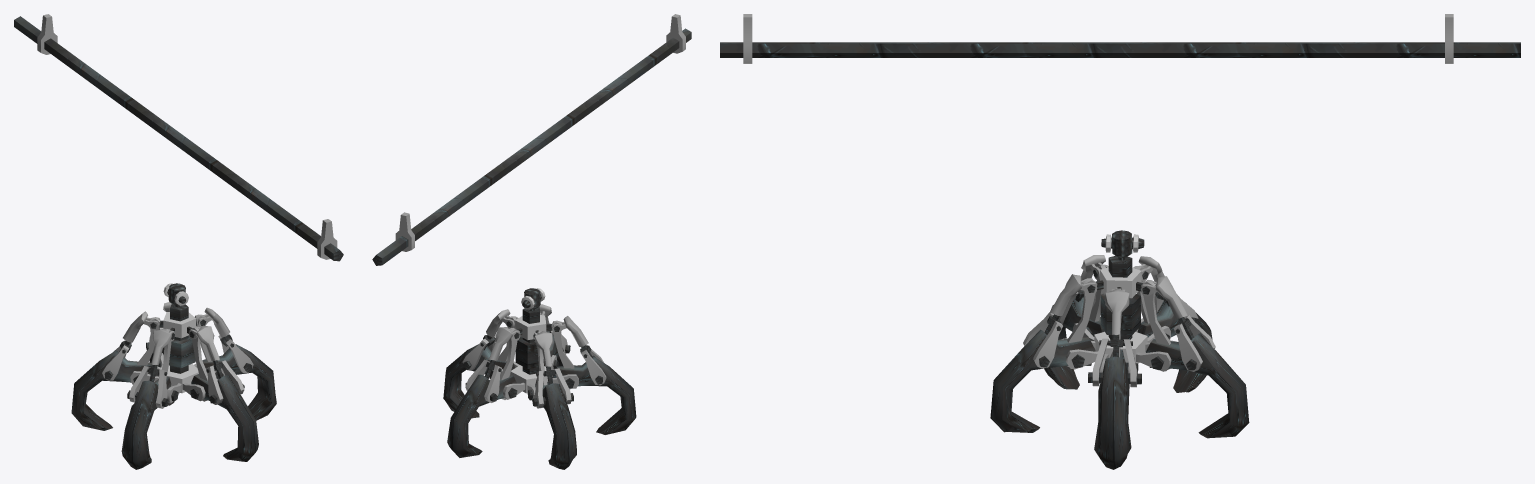
Rendered from Kralle.fbx.
3 views of the same model, side by side, from view 1: azimuth 30°, elevation 25°; view 2: azimuth 150°, elevation 25°; view 3: azimuth 270°, elevation 25° (orthographic). The views are drawn at different scales.
Parts seen in each view (by area): view 1: Kralle_Main, pCylinder181, Claw3, Claw4, Claw2, Claw5, Hydraulics4, Hydraulics3, Hydraulics5, Hydraulics2, pCube77, pCube78; view 2: Kralle_Main, pCylinder181, Claw1, Claw2, Claw3, Claw5, Hydraulics2, Hydraulics1, Hydraulics3, Hydraulics5, pCube77, pCube78; view 3: pCylinder181, Kralle_Main, Claw5, Claw1, Claw4, Claw2, Claw3, Hydraulics5, Hydraulics1, Hydraulics4.
Part boxes in pixels (left/top/right/bottom): Kralle_Main: left=123, top=283, right=229, bottom=403; pCylinder181: left=14, top=16, right=343, bottom=261; Claw3: left=121, top=377, right=171, bottom=469; Claw4: left=191, top=374, right=258, bottom=461; Claw2: left=71, top=350, right=155, bottom=430; Claw5: left=202, top=344, right=276, bottom=420; Hydraulics4: left=206, top=360, right=244, bottom=404; Hydraulics3: left=127, top=365, right=168, bottom=408; Hydraulics5: left=218, top=334, right=253, bottom=373; Hydraulics2: left=102, top=340, right=131, bottom=380; pCube77: left=317, top=219, right=337, bottom=259; pCube78: left=37, top=14, right=57, bottom=54; Kralle_Main: left=486, top=288, right=588, bottom=400; pCylinder181: left=372, top=28, right=691, bottom=265; Claw1: left=447, top=374, right=516, bottom=457; Claw2: left=535, top=379, right=576, bottom=469; Claw3: left=553, top=355, right=636, bottom=434; Claw5: left=443, top=344, right=515, bottom=418; Hydraulics2: left=532, top=366, right=573, bottom=408; Hydraulics1: left=465, top=359, right=501, bottom=402; Hydraulics3: left=580, top=344, right=606, bottom=385; Hydraulics5: left=462, top=334, right=495, bottom=370; pCube77: left=666, top=14, right=685, bottom=53; pCube78: left=395, top=212, right=414, bottom=251; pCylinder181: left=720, top=42, right=1520, bottom=57; Kralle_Main: left=1050, top=230, right=1187, bottom=373; Claw5: left=1094, top=349, right=1131, bottom=469; Claw1: left=1146, top=333, right=1249, bottom=438; Claw4: left=990, top=329, right=1095, bottom=432; Claw2: left=1137, top=300, right=1212, bottom=392; Claw3: left=1044, top=297, right=1104, bottom=389; Hydraulics5: left=1088, top=334, right=1141, bottom=387; Hydraulics1: left=1173, top=315, right=1215, bottom=371; Hydraulics4: left=1023, top=312, right=1062, bottom=368.
Size of the model in its own units: 701 by 1248 by 2230.
